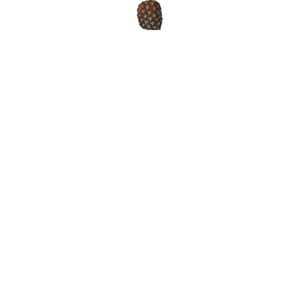abacaxi: (134, 1, 163, 32)
